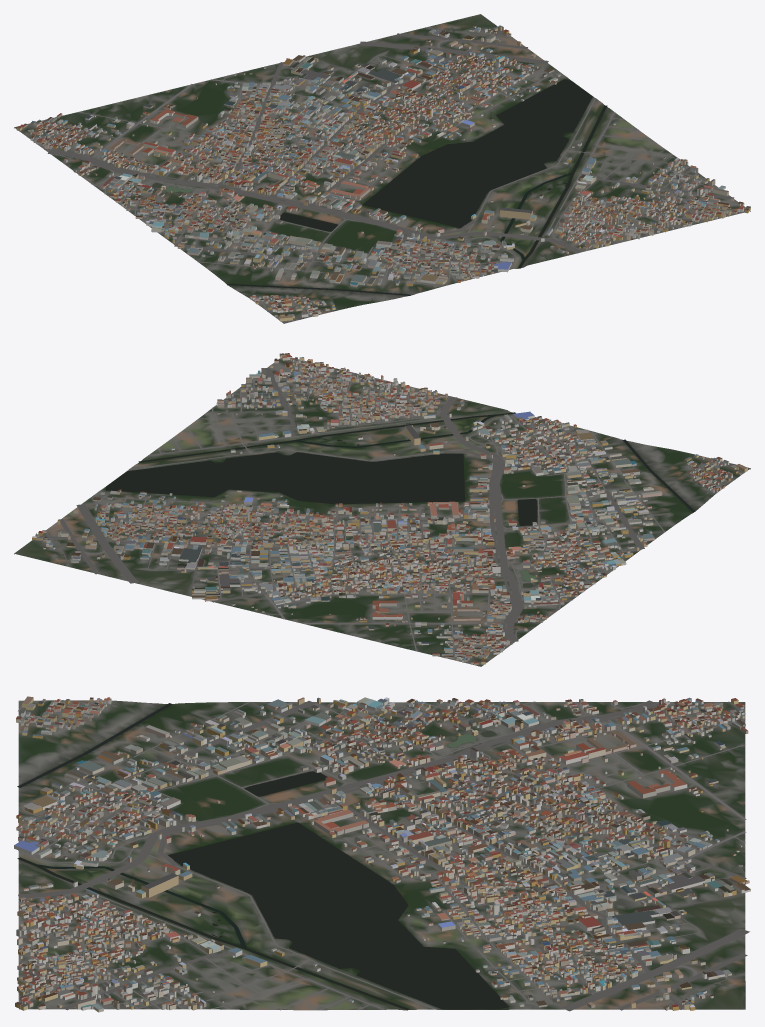
3 views of the same model, one above another, from view 1: azimuth 30°, elevation 25°; view 2: azimuth 150°, elevation 25°; view 3: azimuth 270°, elevation 25° (orthographic). The views are drawn at different scales.
Visible parts, largest first — view 1: ground, buildings, water, roads; view 2: ground, buildings, water, roads; view 3: ground, buildings, water, roads.
Boxes of the visible parts, <box> form: ground: <box>14,14,750,323</box>; buildings: <box>16,25,750,321</box>; water: <box>152,79,607,295</box>; roads: <box>19,27,742,321</box>; ground: <box>14,358,750,666</box>; buildings: <box>32,353,747,664</box>; water: <box>105,412,695,587</box>; roads: <box>39,358,736,662</box>; ground: <box>18,700,745,1010</box>; buildings: <box>14,696,750,1012</box>; water: <box>17,703,509,1010</box>; roads: <box>18,700,749,1011</box>.
Bounding box in the file's own units: 1427 × 29.45 × 1422.
